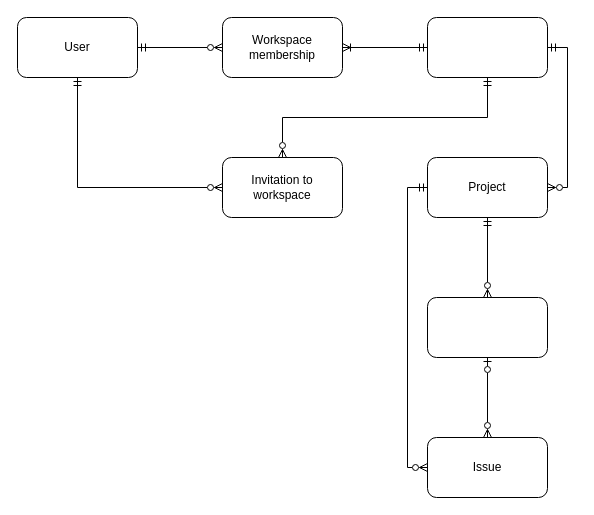
This 594x515 diagram has some shape labels left out. Here are the shapes that lost their labels. From the top down, the centre of each, then its label:
pixel 487 47: Workspace
pixel 487 327: Sprint
